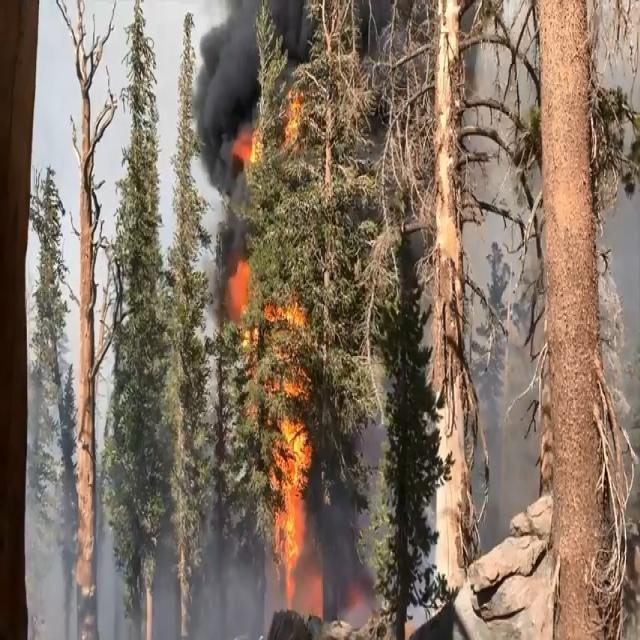Fire: (220, 73, 324, 640)
